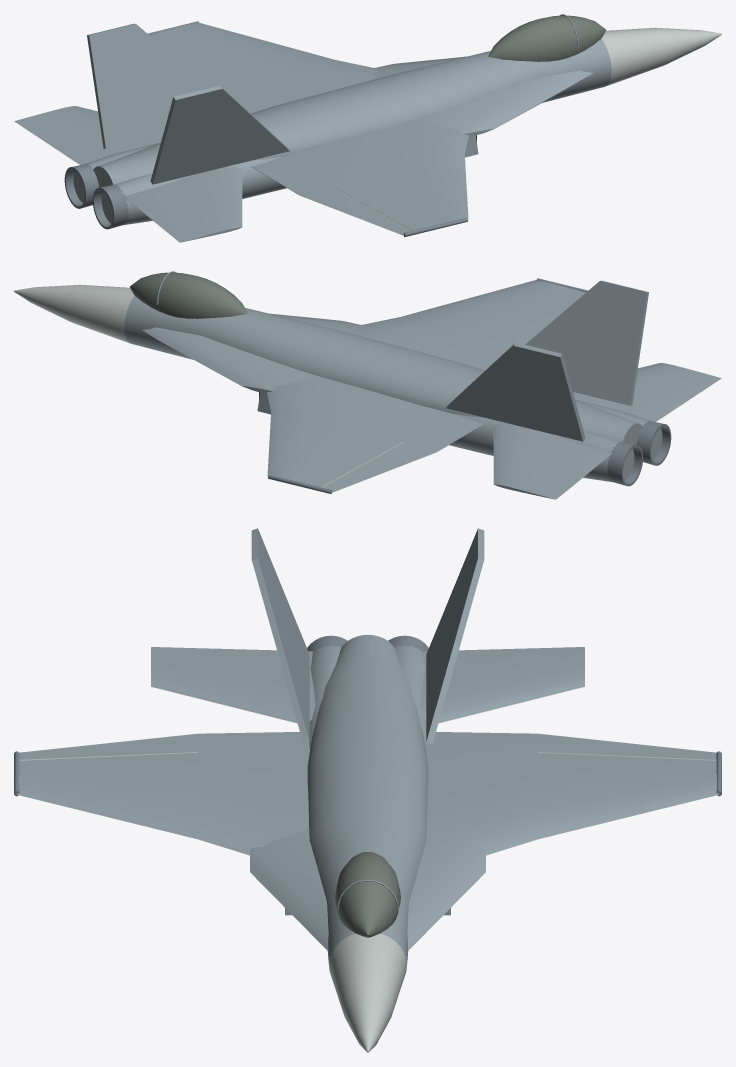
File: usn_fighter_fa18e.glb
3 renders of one model, top to bottom at view 1: azimuth 30°, elevation 25°; view 2: azimuth 150°, elevation 25°; view 3: azimuth 270°, elevation 25°, orthographic. The views are drawn at different scales.
Visible parts, largest first — view 1: airframe, array_face, canopy_gold, titanium; view 2: airframe, array_face, canopy_gold, titanium; view 3: airframe, array_face, canopy_gold, titanium.
Part boxes in pixels (<box>): airframe: <box>14,14,611,242</box>; array_face: <box>332,27,721,230</box>; canopy_gold: <box>488,15,606,61</box>; titanium: <box>64,21,467,236</box>; airframe: <box>124,271,721,499</box>; array_face: <box>14,284,403,487</box>; canopy_gold: <box>129,272,247,318</box>; titanium: <box>268,278,671,493</box>; airframe: <box>16,528,719,963</box>; array_face: <box>19,752,716,1052</box>; canopy_gold: <box>335,852,400,937</box>; titanium: <box>14,635,721,796</box>.
Size of the model in its own units: 10 by 2.17 by 7.41.
